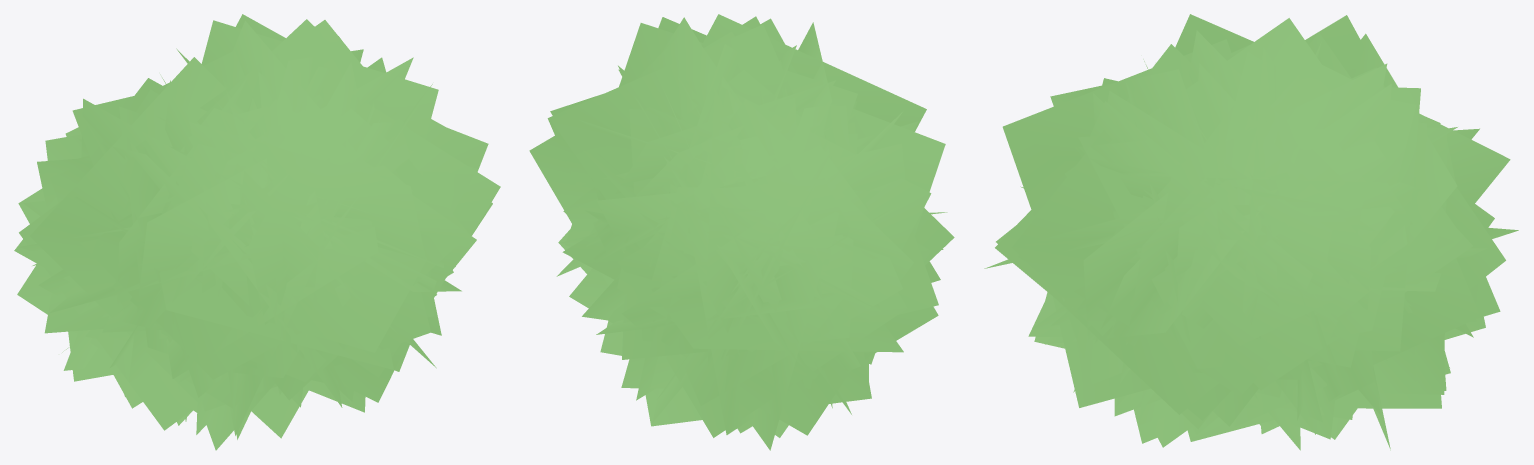
The model's file is leaf_2.glb.
The picture shows the model from 3 angles, left to right: view 1: azimuth 30°, elevation 25°; view 2: azimuth 150°, elevation 25°; view 3: azimuth 270°, elevation 25°; orthographic projection. The views are drawn at different scales.
Visible parts, largest first — view 1: Leaf_03_LOD1; view 2: Leaf_03_LOD1; view 3: Leaf_03_LOD1.
Boxes of the visible parts, <box> form: Leaf_03_LOD1: <box>14,14,500,450</box>; Leaf_03_LOD1: <box>529,14,954,450</box>; Leaf_03_LOD1: <box>984,14,1518,450</box>.
Bounding box in the file's own units: 1.32 × 1.24 × 1.37.
